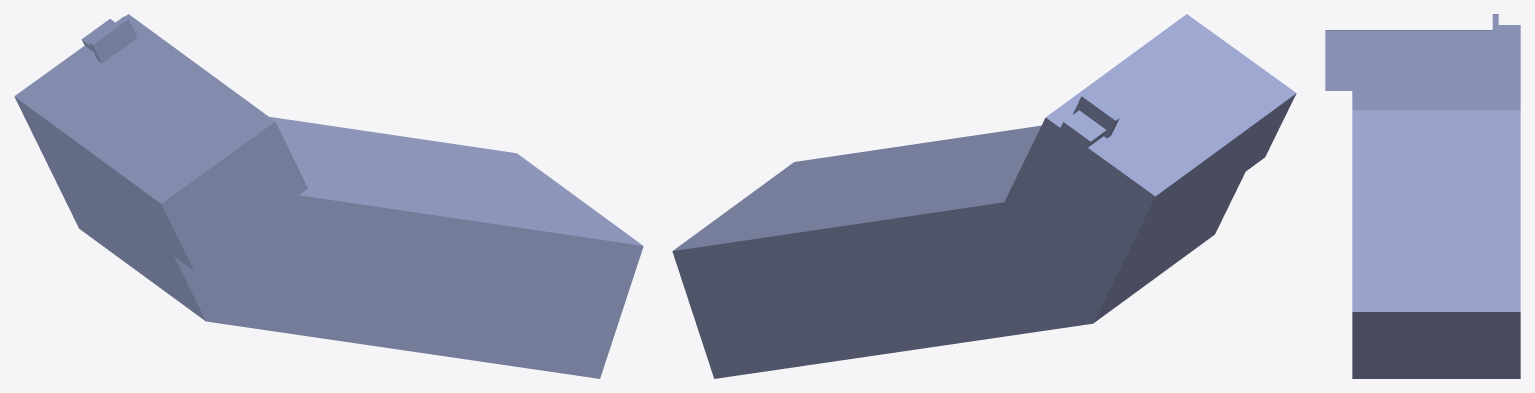
3 views of the same model, side by side, from view 1: azimuth 30°, elevation 25°; view 2: azimuth 150°, elevation 25°; view 3: azimuth 270°, elevation 25° (orthographic). The views are drawn at different scales.
Parts seen in each view (by area): view 1: E4A; view 2: E4A; view 3: E4A.
Part boxes in pixels (x1,y1,x2,y2): E4A: (14, 14, 643, 378); E4A: (672, 14, 1296, 378); E4A: (1325, 14, 1520, 378).
Bounding box in the file's own units: 66.85 × 47.19 × 33.85.
